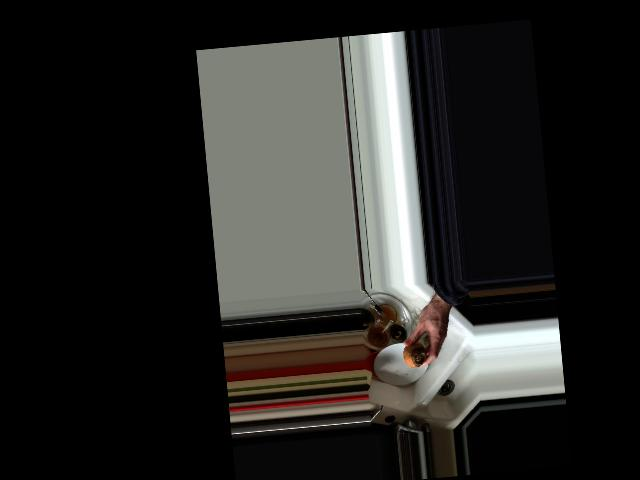sweet_potato: (400, 336, 428, 369)
